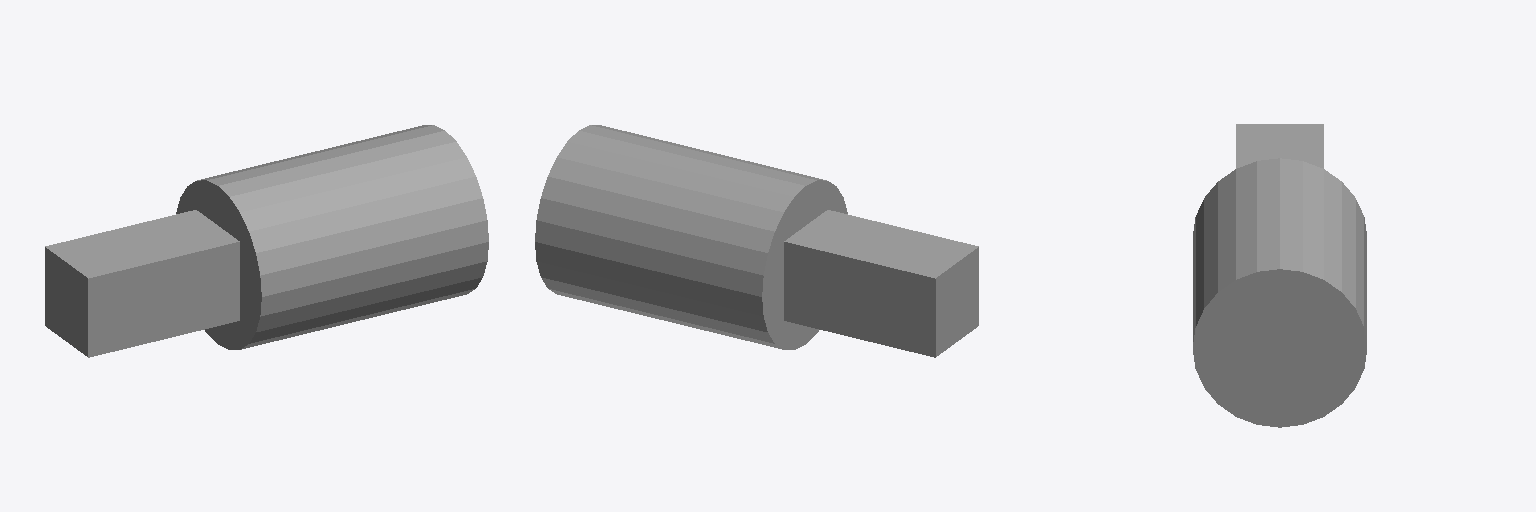
File: peg.obj
3 views of the same model, side by side, from view 1: azimuth 30°, elevation 25°; view 2: azimuth 150°, elevation 25°; view 3: azimuth 270°, elevation 25° (orthographic).
Bounding box in the file's own units: 0.5 × 0.2 × 0.2.